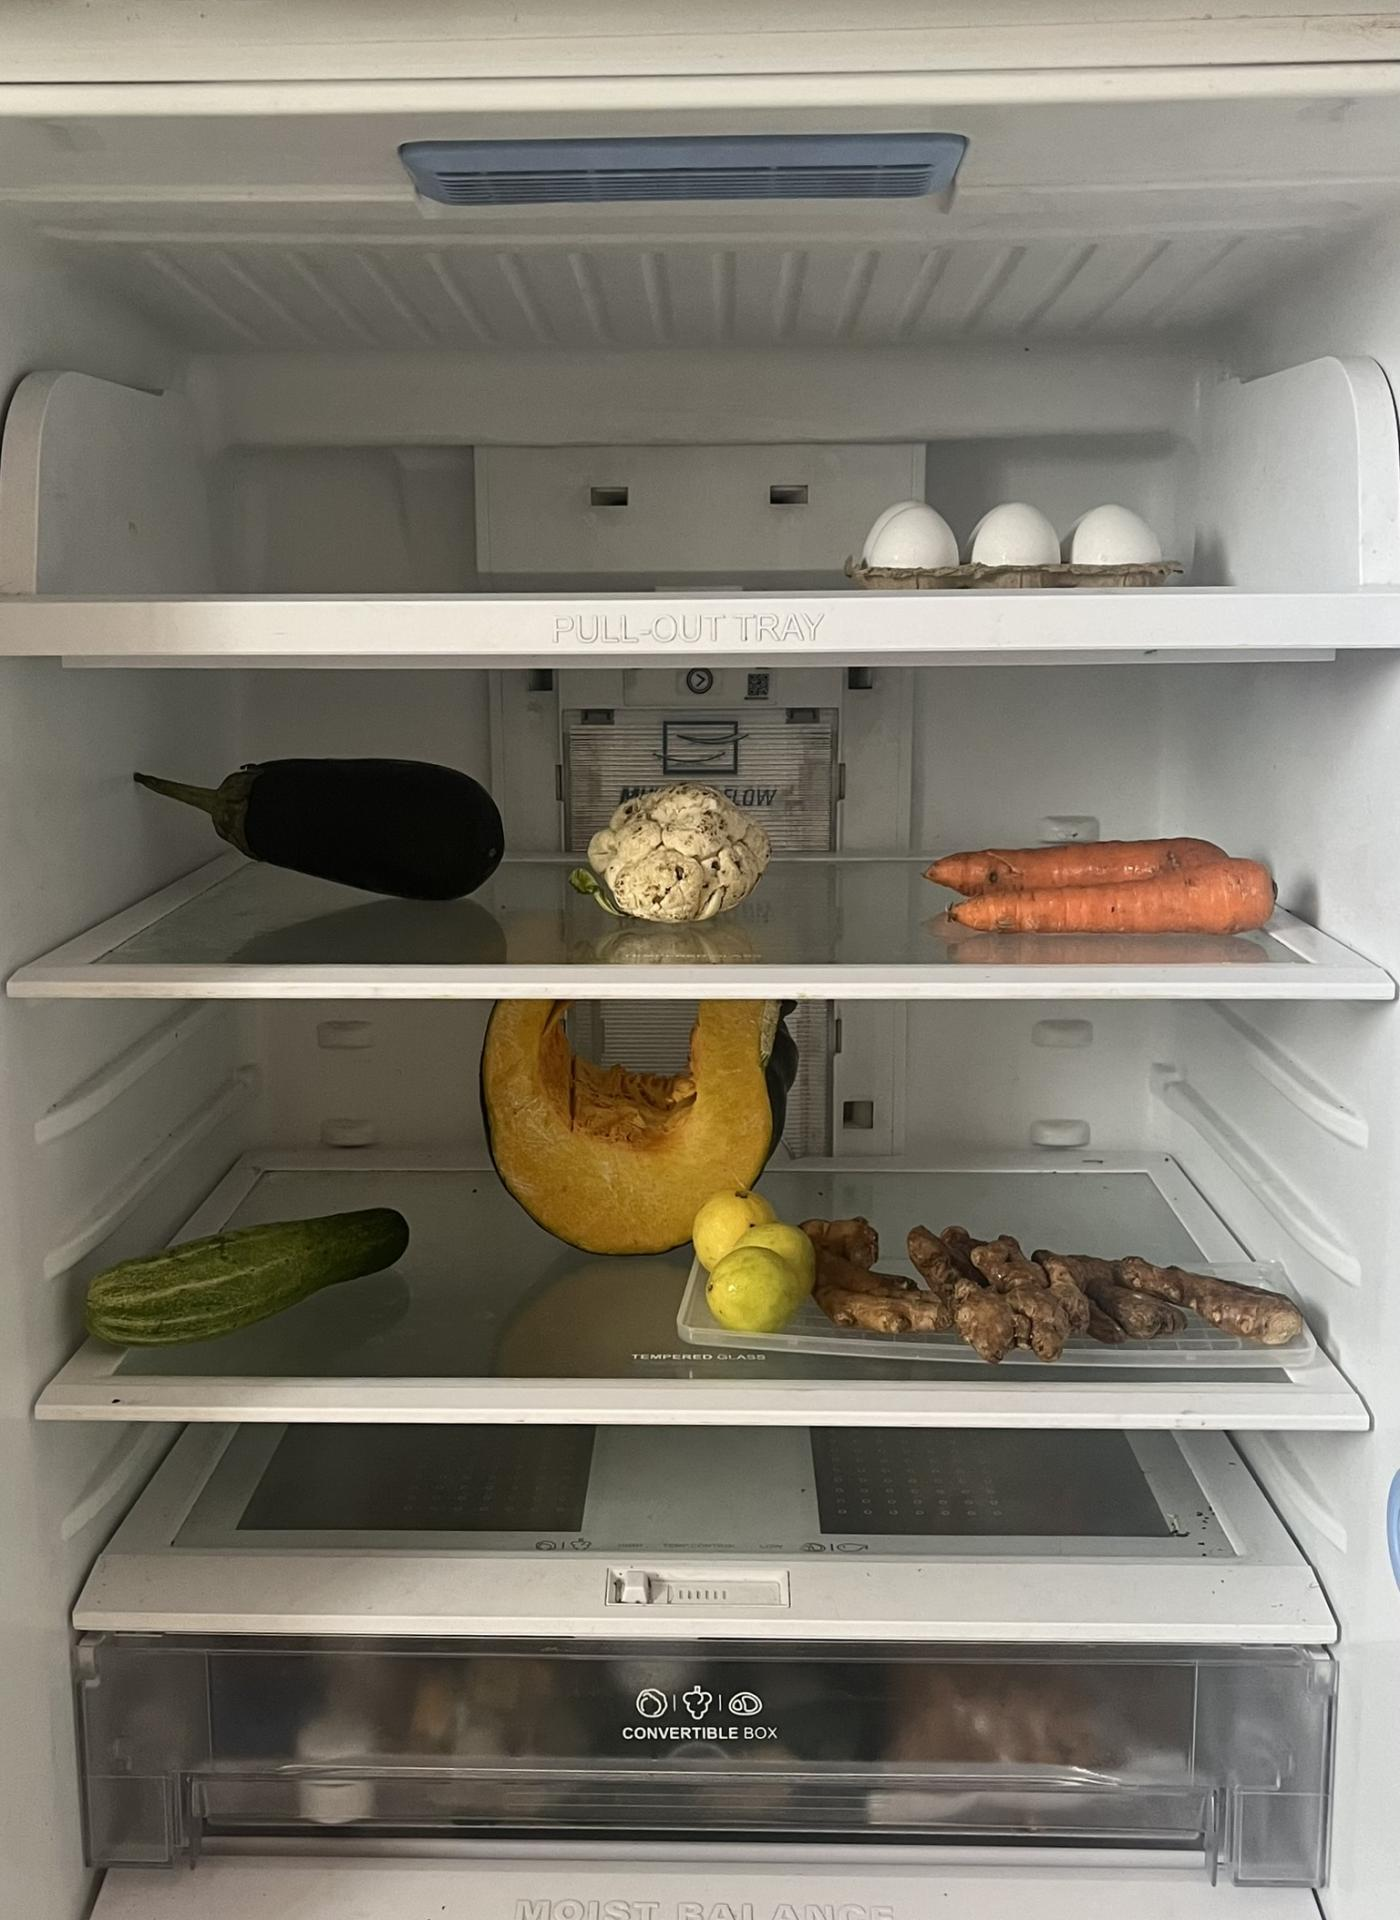brinjal: (143, 756, 516, 891)
carrots: (930, 830, 1282, 935)
cauliflower: (574, 781, 769, 917)
cucumber: (76, 1207, 416, 1352)
egg: (850, 493, 1158, 580)
ginger: (817, 1197, 1321, 1357)
lemon: (687, 1196, 811, 1327)
pumpkin: (476, 1000, 790, 1245)
